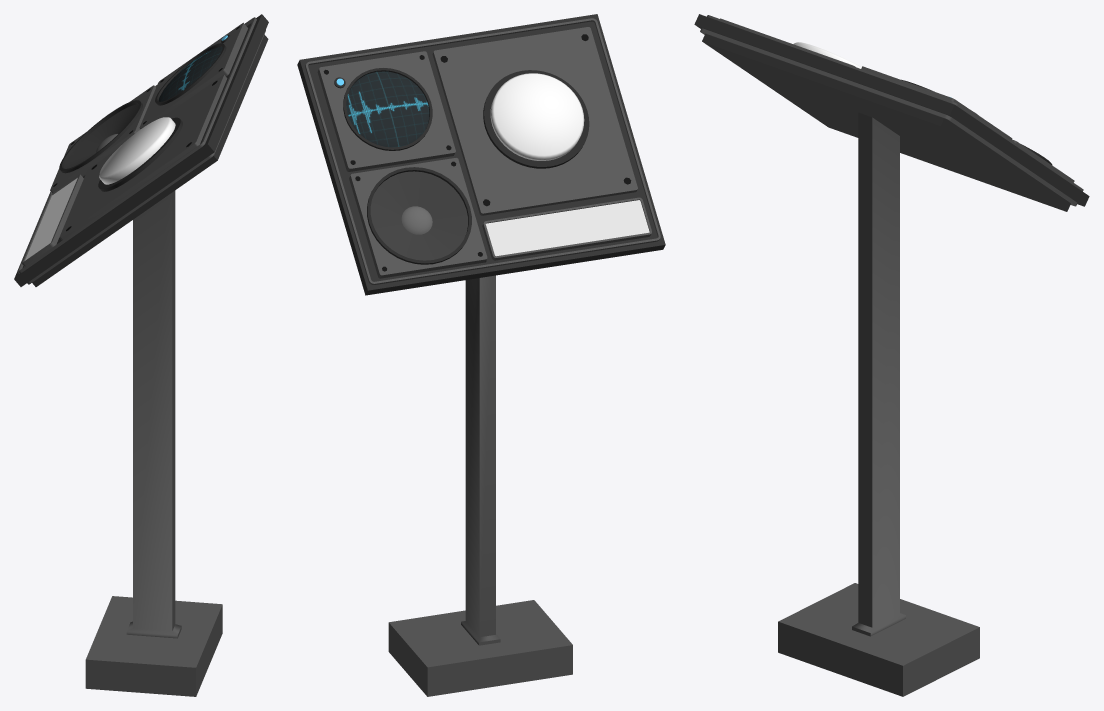
File: pedestal_1_002_export_audio.fbx
3 renders of one model, left to right at view 1: azimuth 30°, elevation 25°; view 2: azimuth 150°, elevation 25°; view 3: azimuth 270°, elevation 25°, orthographic. The views are drawn at different scales.
Parts seen in each view (by area): view 1: STAND, Extrude_Cylinder_1, backplate_1, border, og__button_1, speaker_anim, text_screen, oscilli_screen, text_ring, speaker_ring, button_ring, oscilli_ring; view 2: Extrude_Cylinder_1, STAND, backplate_1, speaker_anim, og__button_1, text_screen, oscilli_screen, border, button_ring, text_ring, speaker_ring, oscilli_ring; view 3: STAND, backplate_1, border, Extrude_Cylinder_1.
Part boxes in pixels (x1,y1,x2,y2): STAND: [85, 190, 222, 696]; Extrude_Cylinder_1: [50, 22, 247, 240]; backplate_1: [14, 14, 268, 286]; border: [17, 17, 265, 284]; og__button_1: [99, 117, 175, 184]; speaker_anim: [64, 104, 138, 168]; text_screen: [25, 178, 77, 260]; oscilli_screen: [158, 47, 222, 101]; text_ring: [21, 174, 83, 266]; speaker_ring: [59, 100, 142, 173]; button_ring: [98, 117, 182, 191]; oscilli_ring: [155, 43, 226, 105]; Extrude_Cylinder_1: [317, 27, 637, 278]; STAND: [388, 275, 572, 696]; backplate_1: [297, 14, 665, 295]; speaker_anim: [370, 171, 467, 260]; og__button_1: [490, 73, 584, 160]; text_screen: [485, 200, 649, 256]; oscilli_screen: [346, 71, 429, 147]; border: [305, 18, 660, 284]; button_ring: [483, 70, 589, 168]; text_ring: [482, 197, 651, 260]; speaker_ring: [367, 167, 471, 264]; oscilli_ring: [343, 68, 432, 150]; STAND: [778, 112, 979, 696]; backplate_1: [694, 14, 1089, 211]; border: [700, 15, 1083, 206]; Extrude_Cylinder_1: [720, 18, 1074, 182].
Size of the model in its own units: 63.96 by 116 by 66.36.
9 materials, 2 textured.
